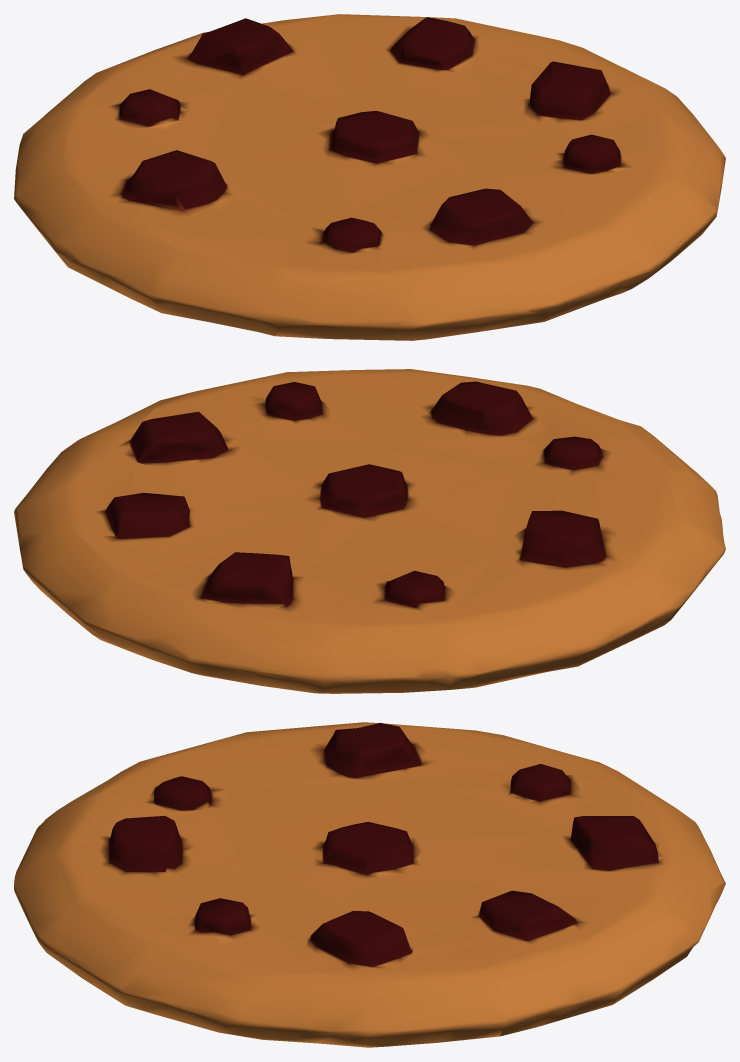
File: gen3d-chocolate-chip-cookie-lod0.glb
3 views of the same model, one above another, from view 1: azimuth 30°, elevation 25°; view 2: azimuth 150°, elevation 25°; view 3: azimuth 270°, elevation 25° (orthographic).
Parts seen in each view (by area): view 1: part_0; view 2: part_0; view 3: part_0.
Part boxes in pixels (<box>): part_0: <box>14,14,725,340</box>; part_0: <box>14,369,725,693</box>; part_0: <box>14,722,725,1047</box>.
Bounding box in the file's own units: 6.83 × 0.9934 × 6.81.
